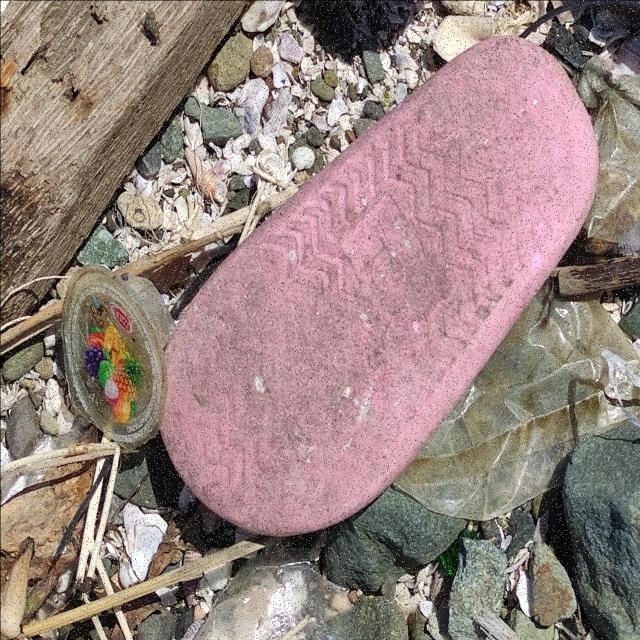plastic_waste: (60, 264, 176, 452)
rubber_waste: (158, 32, 603, 540)
